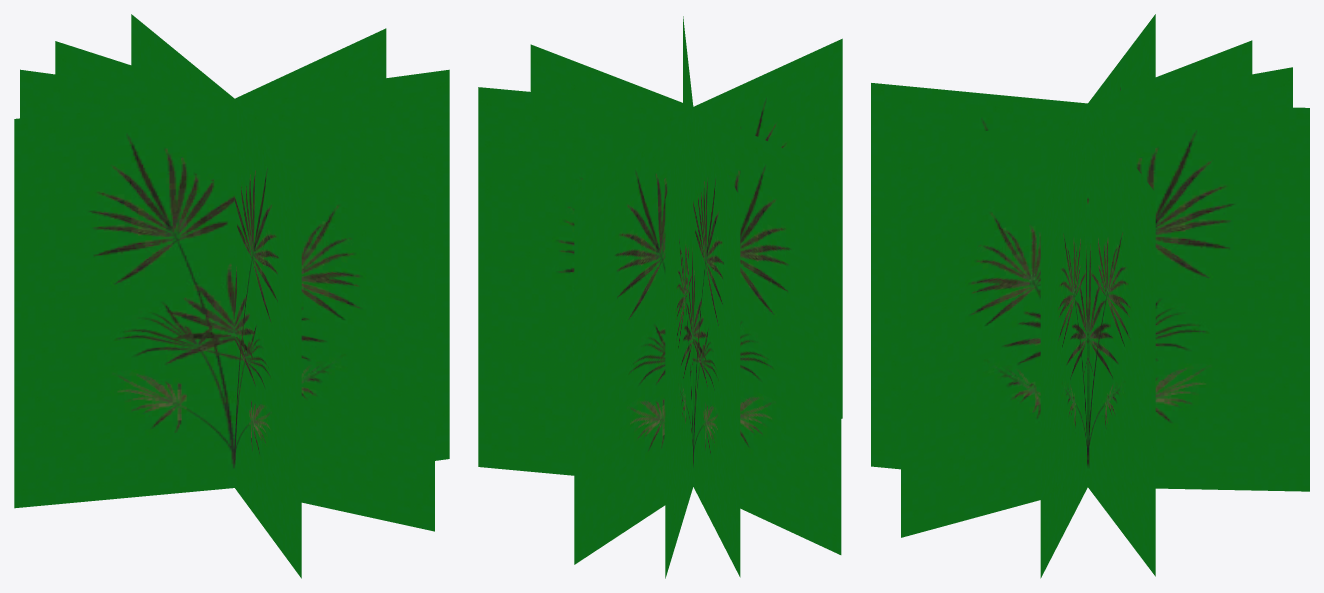
The model's file is grs_weed01.glb.
3 renders of one model, left to right at view 1: azimuth 30°, elevation 25°; view 2: azimuth 150°, elevation 25°; view 3: azimuth 270°, elevation 25°, orthographic. The views are drawn at different scales.
Visible parts, largest first — view 1: grs_weed01; view 2: grs_weed01; view 3: grs_weed01.
Part boxes in pixels (bbox=[...]): grs_weed01: bbox=[14, 14, 449, 578]; grs_weed01: bbox=[478, 16, 842, 578]; grs_weed01: bbox=[871, 14, 1309, 578].
Size of the model in its own units: 2.01 by 1.98 by 2.05.
Materials: 1 (1 with a texture image).
